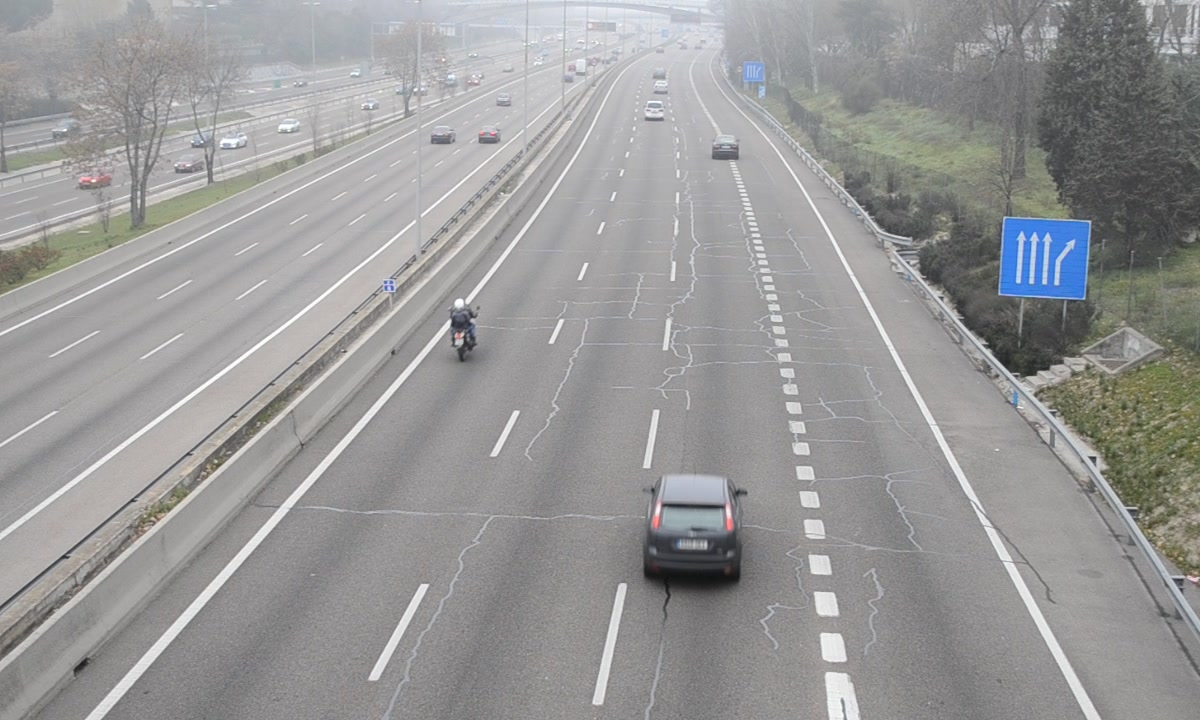car: (641, 475, 743, 583), (711, 135, 738, 159), (644, 101, 665, 122)
motorcycle: (448, 298, 478, 362)
